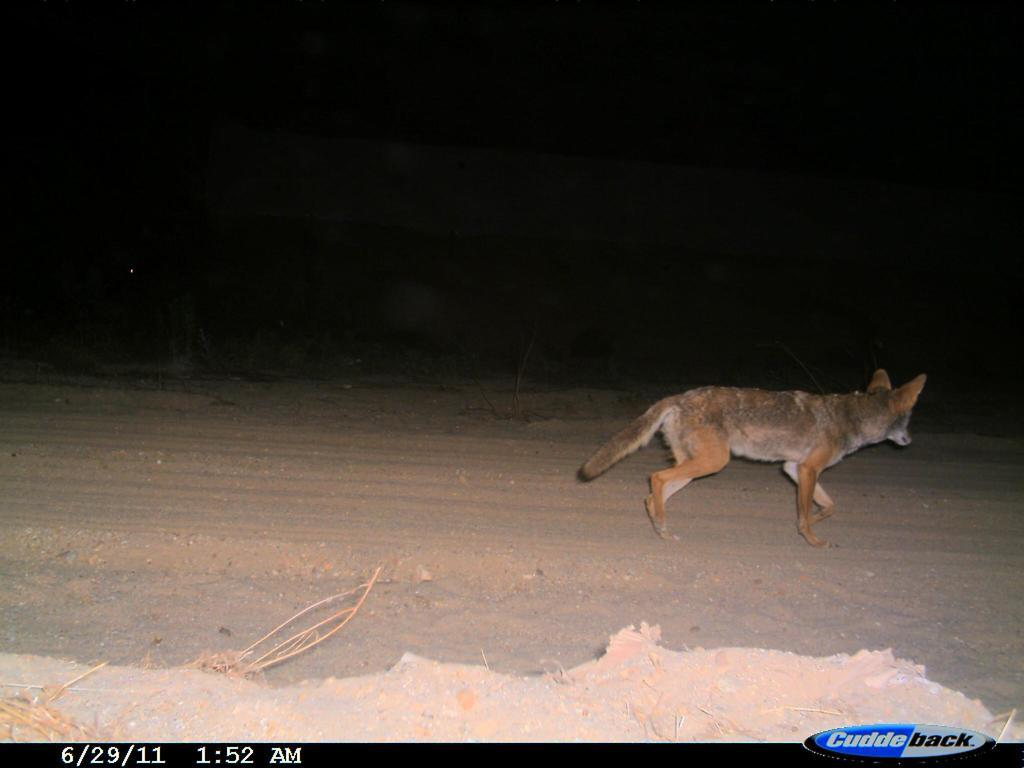coyote: (574, 367, 932, 542)
